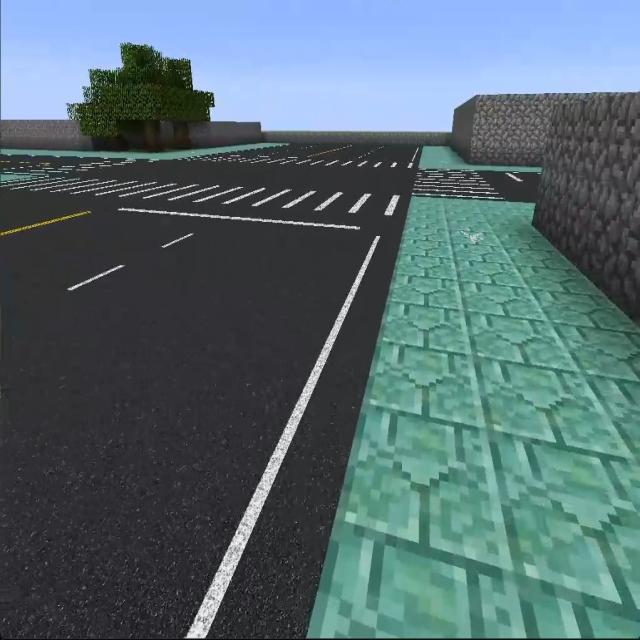crosswalk: (7, 173, 407, 223), (185, 153, 418, 172), (411, 168, 511, 199)
road: (1, 199, 400, 632), (76, 160, 414, 195), (245, 141, 422, 160), (480, 171, 540, 203)
sidewalk: (313, 199, 637, 626), (0, 142, 288, 160), (418, 146, 540, 174)
